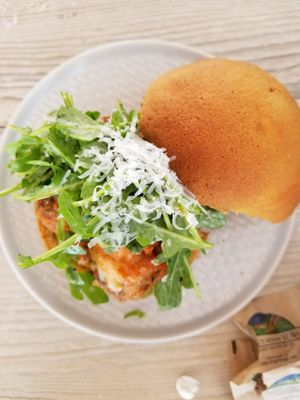soup: (11, 57, 300, 309), (138, 58, 300, 225)
